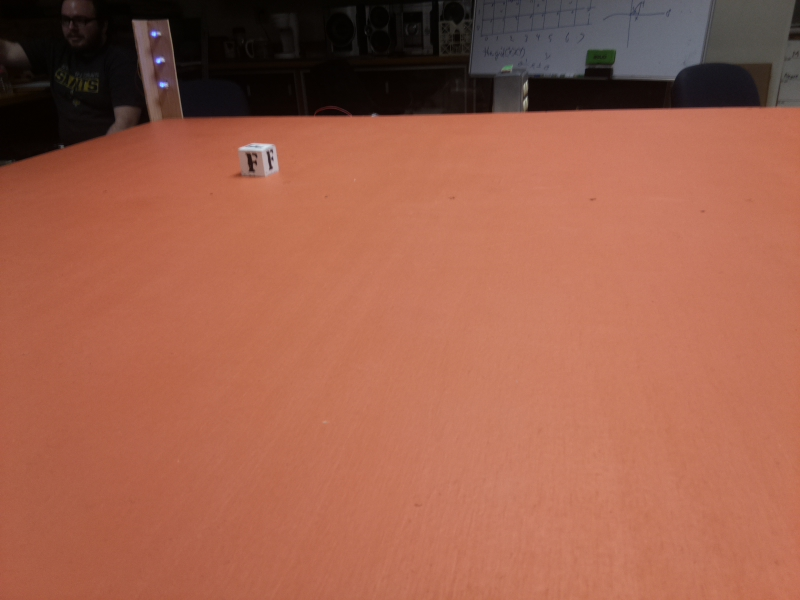blockF: (238, 141, 284, 179)
corner: (132, 18, 192, 122)
